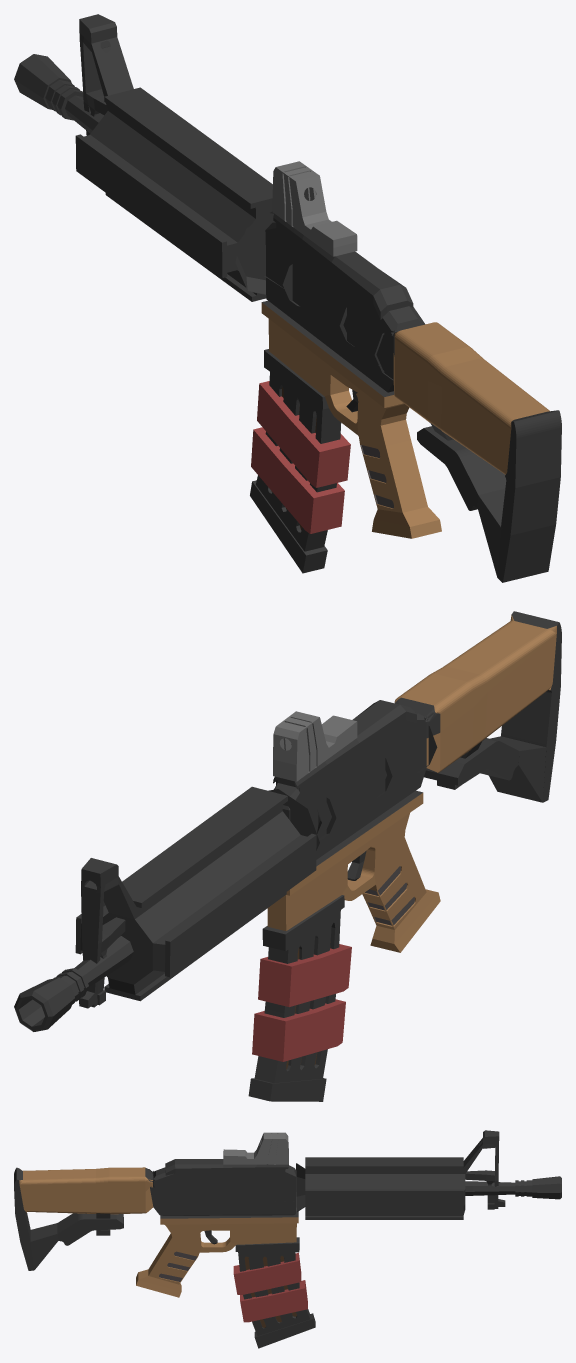
File: Item_AssaultRifle.fbx
3 renders of one model, top to bottom at view 1: azimuth 30°, elevation 25°; view 2: azimuth 150°, elevation 25°; view 3: azimuth 270°, elevation 25°, orthographic. The views are drawn at different scales.
Visible parts, largest first — view 1: Plane, Cylinder; view 2: Plane, Cylinder; view 3: Plane, Cylinder.
Boxes of the visible parts, <box> form: Plane: <box>250,161,561,582</box>; Cylinder: <box>14,14,393,380</box>; Plane: <box>248,611,561,1101</box>; Cylinder: <box>14,726,437,1031</box>; Plane: <box>14,1132,315,1348</box>; Cylinder: <box>275,1130,561,1219</box>.
Size of the model in its own units: 41.44 by 164 by 385.
